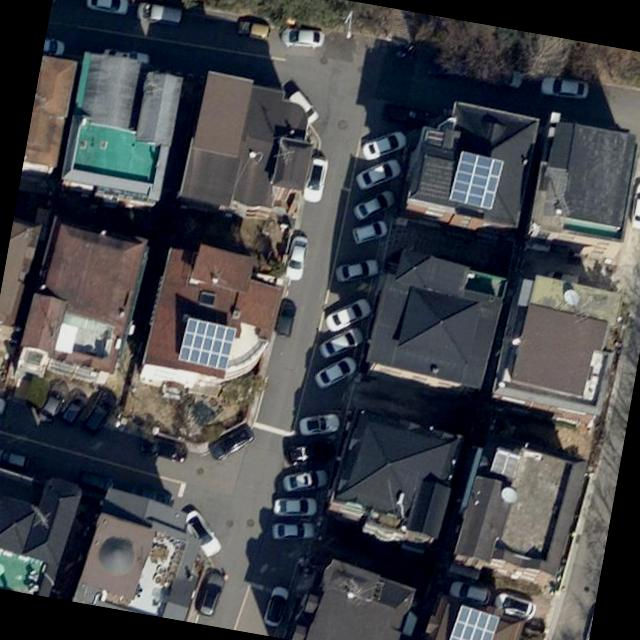solar: (444, 146, 506, 212), (175, 314, 239, 372), (442, 600, 502, 640)
